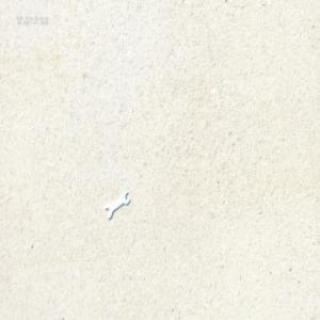Wrenchtrack_idkeyframe: (104, 188, 129, 218)
